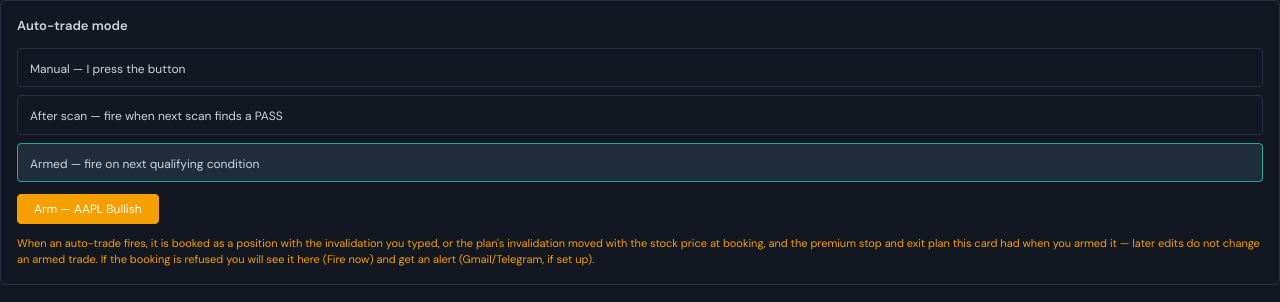
Test: the ARMED state shows what the BACKEND has armed › does NOT let a status read issued before arming clobber the armed state
The image size is (1280, 302).
Click the button "Arm — AAPL Bullish" at (88, 209), box x1=17 y1=194 x2=159 y2=224
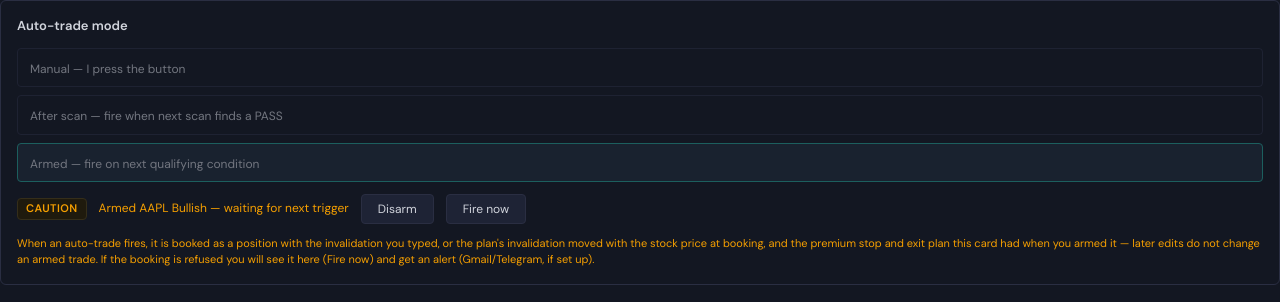
Now the button "Arm —" is gone
